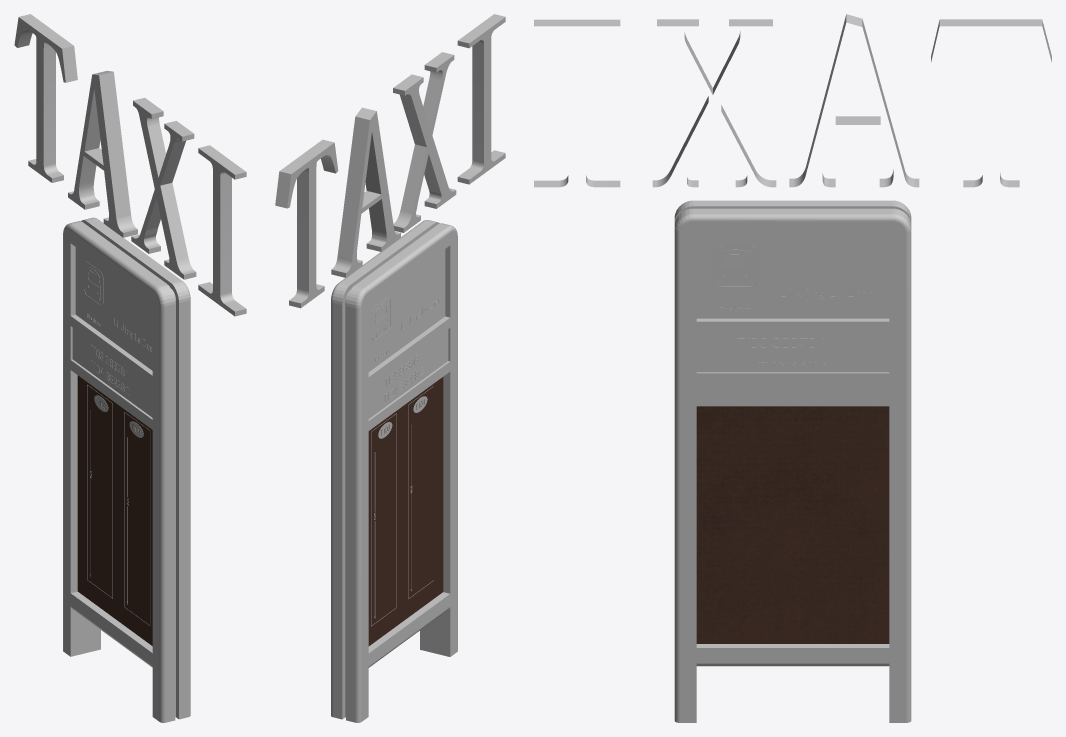
File: 出租车站.gltf
The picture shows the model from 3 angles, left to right: view 1: azimuth 30°, elevation 25°; view 2: azimuth 150°, elevation 25°; view 3: azimuth 270°, elevation 25°; orthographic projection. The views are drawn at different scales.
Parts seen in each view (by area): view 1: node_Obj3d66-553228-1-69_-66362, node_Text002_-66410, node_Obj3d66-553228-4-855_-66398, node_Obj3d66-553228-2-507_-66384, node_Obj3d66-553228-12-160_-66368, node_Obj3d66-553228-13-599_-66370, node_Obj3d66-553228-5-490_-66400, node_Obj3d66-553228-21-326_-66388; view 2: node_Obj3d66-553228-1-69_-66362, node_Text002_-66410, node_Obj3d66-553228-4-855_-66398, node_Obj3d66-553228-2-507_-66384, node_Obj3d66-553228-12-160_-66368, node_Obj3d66-553228-13-599_-66370, node_Obj3d66-553228-5-490_-66400, node_Obj3d66-553228-21-326_-66388; view 3: node_Obj3d66-553228-15-140_-66374, node_Obj3d66-553228-1-69_-66362, node_Obj3d66-553228-2-507_-66384, node_Obj3d66-553228-13-599_-66370, node_Text002_-66410, node_Obj3d66-553228-12-160_-66368, node_Obj3d66-553228-20-465_-66386, node_Obj3d66-553228-23-799_-66392.
Part boxes in pixels (x1,y1,x2,y2): node_Obj3d66-553228-1-69_-66362: (63,217,190,722); node_Text002_-66410: (14,14,246,316); node_Obj3d66-553228-4-855_-66398: (77,375,152,645); node_Obj3d66-553228-2-507_-66384: (75,247,152,370); node_Obj3d66-553228-12-160_-66368: (64,312,158,433); node_Obj3d66-553228-13-599_-66370: (72,328,152,417); node_Obj3d66-553228-5-490_-66400: (87,384,150,625); node_Obj3d66-553228-21-326_-66388: (83,261,103,306); node_Obj3d66-553228-1-69_-66362: (331,220,457,722); node_Text002_-66410: (275,14,505,308); node_Obj3d66-553228-4-855_-66398: (368,377,443,646); node_Obj3d66-553228-2-507_-66384: (368,249,445,371); node_Obj3d66-553228-12-160_-66368: (363,313,455,434); node_Obj3d66-553228-13-599_-66370: (368,329,448,418); node_Obj3d66-553228-5-490_-66400: (371,386,433,626); node_Obj3d66-553228-21-326_-66388: (372,297,391,341); node_Obj3d66-553228-15-140_-66374: (696,406,889,643); node_Obj3d66-553228-1-69_-66362: (674,200,911,722); node_Obj3d66-553228-2-507_-66384: (696,236,889,318); node_Obj3d66-553228-13-599_-66370: (696,333,889,372); node_Text002_-66410: (534,14,1051,187); node_Obj3d66-553228-12-160_-66368: (696,318,889,385); node_Obj3d66-553228-20-465_-66386: (696,385,889,406); node_Obj3d66-553228-23-799_-66392: (713,246,758,287).
Bounding box in the file's own units: 0.15 × 2.79 × 1.88.
